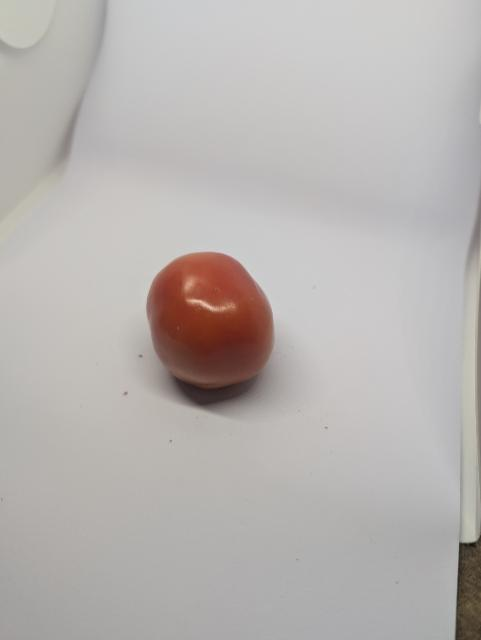red: (145, 248, 280, 388)
